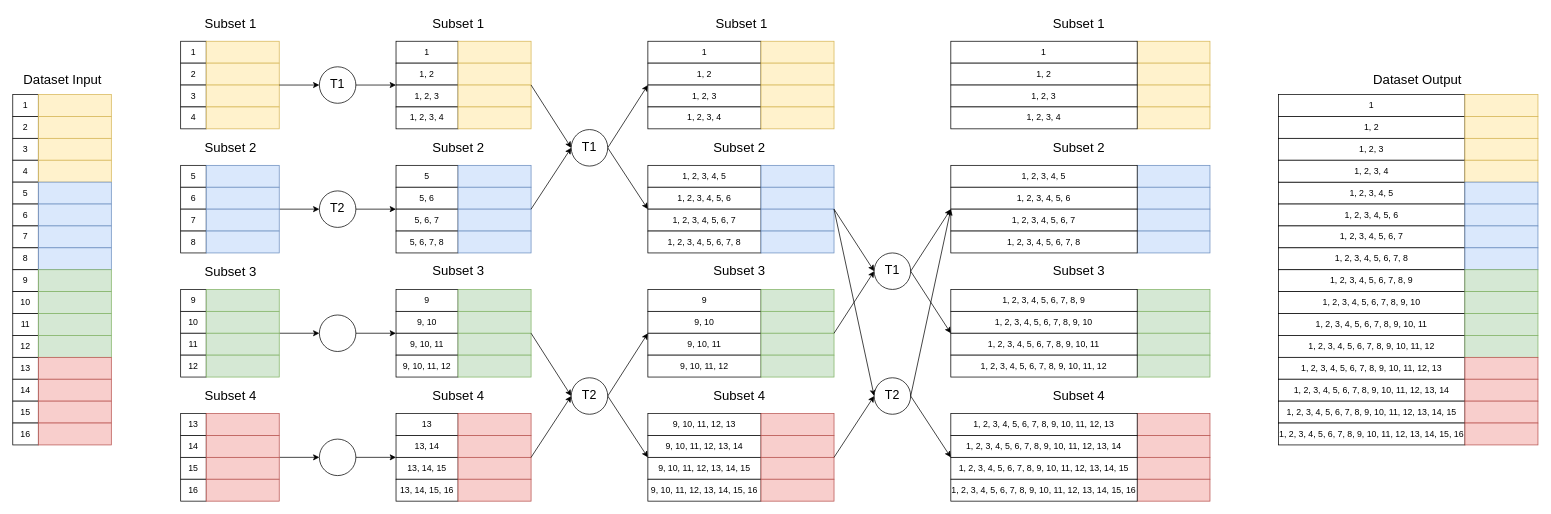
Some shapes in this 1551 by 514 pixel diagram are drawn without their labels. The shapes that lost their labels are listed below. From the top down, each one's centre as x and y in pixels, then its label:
At point 337,332: "T3".
At point 337,457: "T4".
